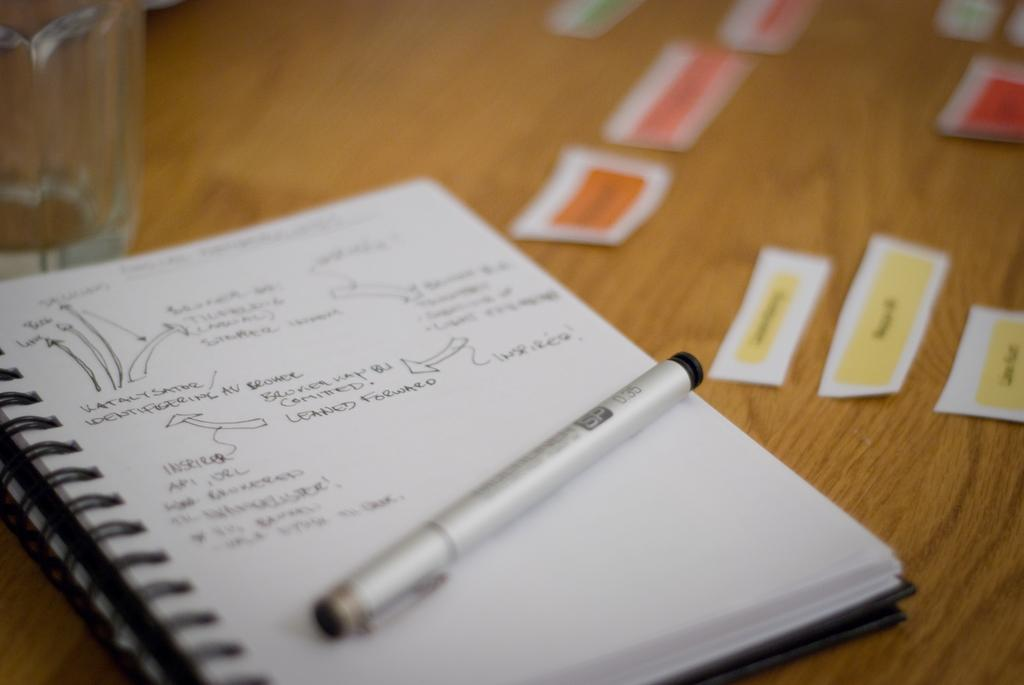pen: (296, 358, 734, 629)
